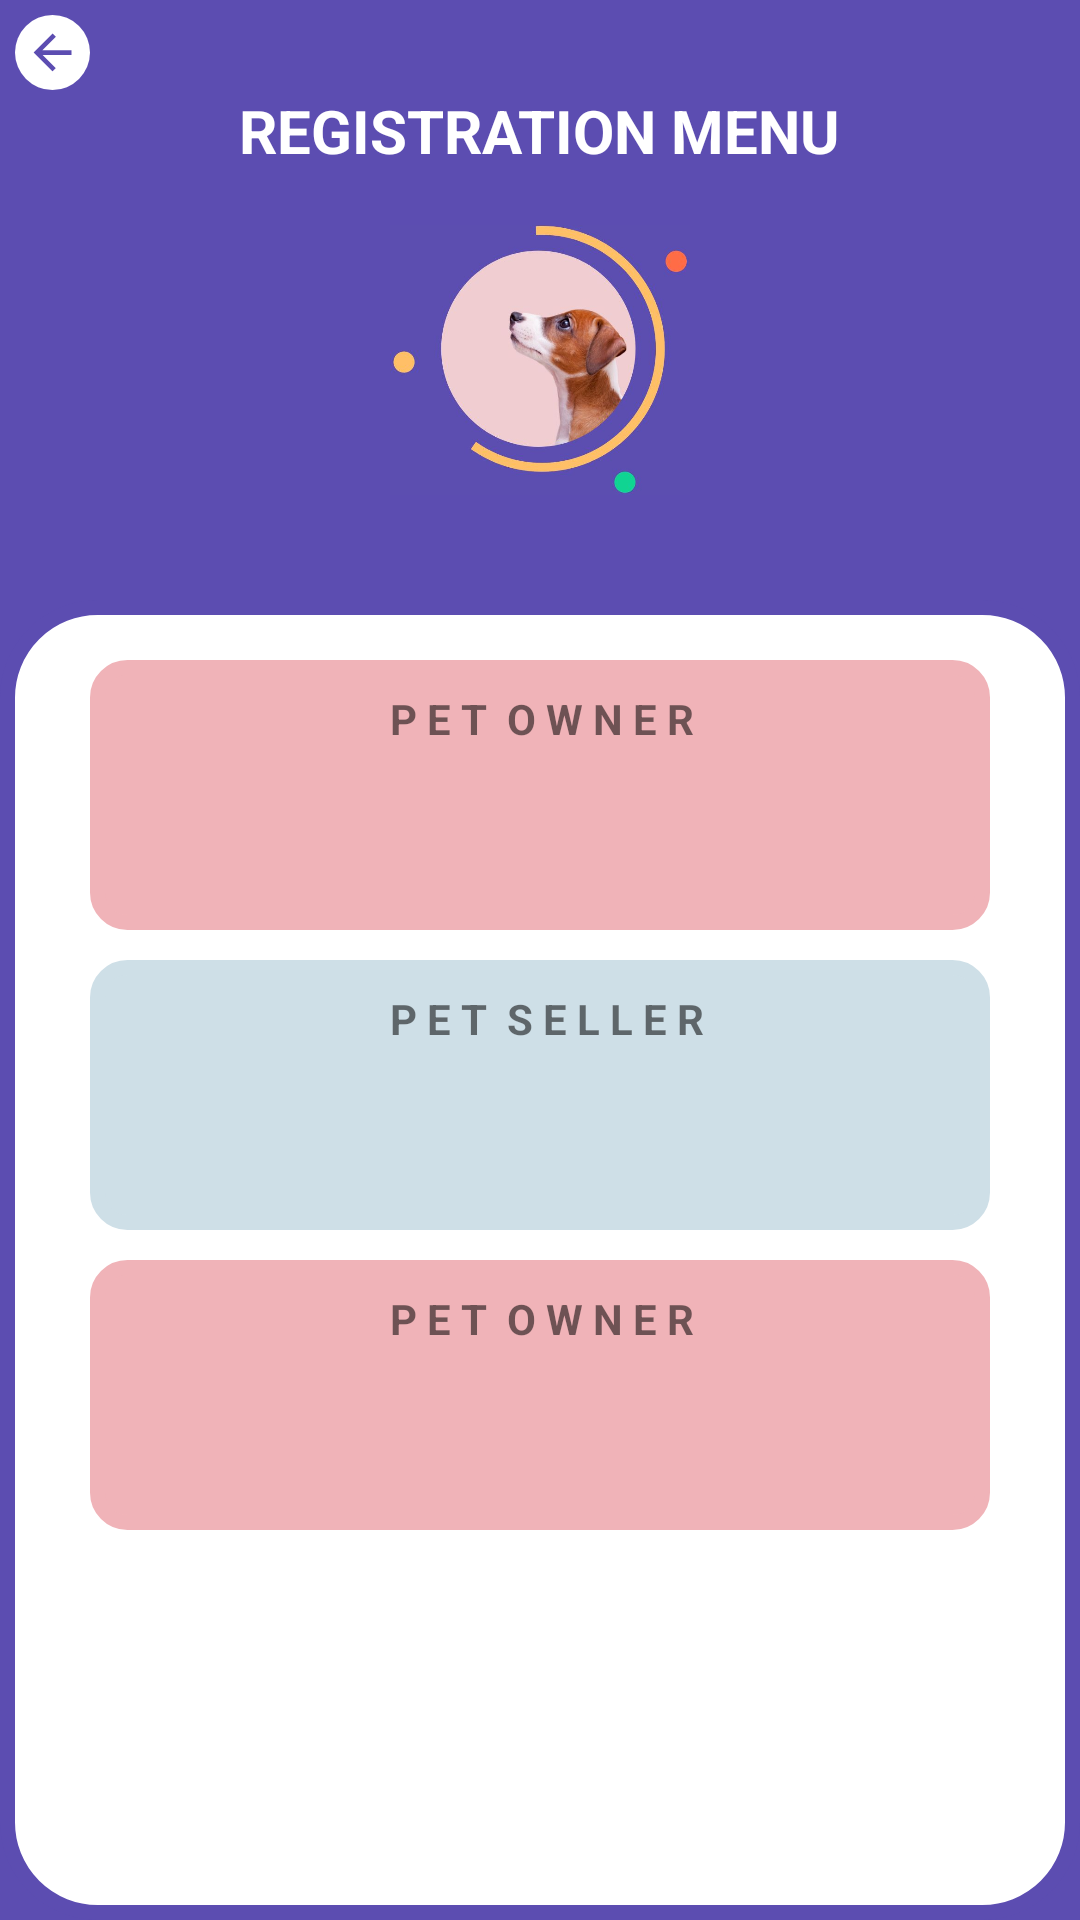

Icons on this 1080 × 1920 Android screen, each with the point to tap as (x=x, y=y):
back: (x=52, y=52)
